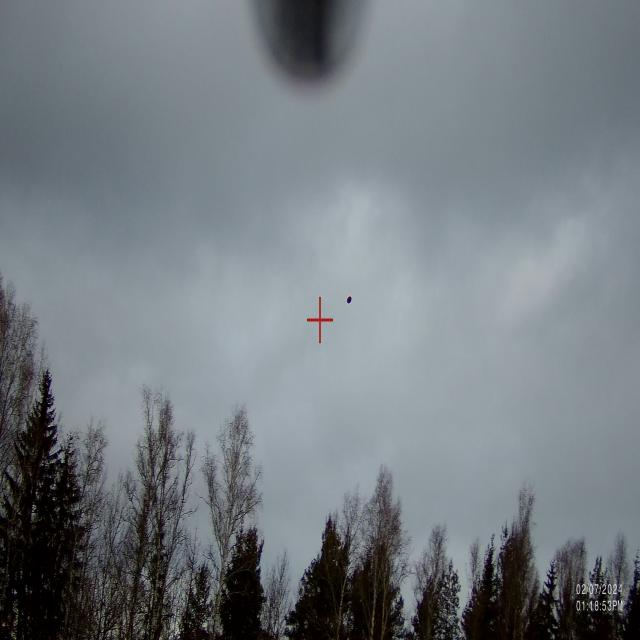entire: (347, 291, 353, 306)
